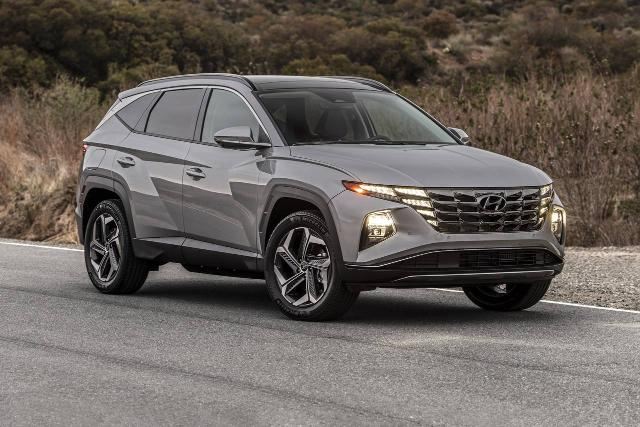hyundai: (74, 73, 568, 321)
